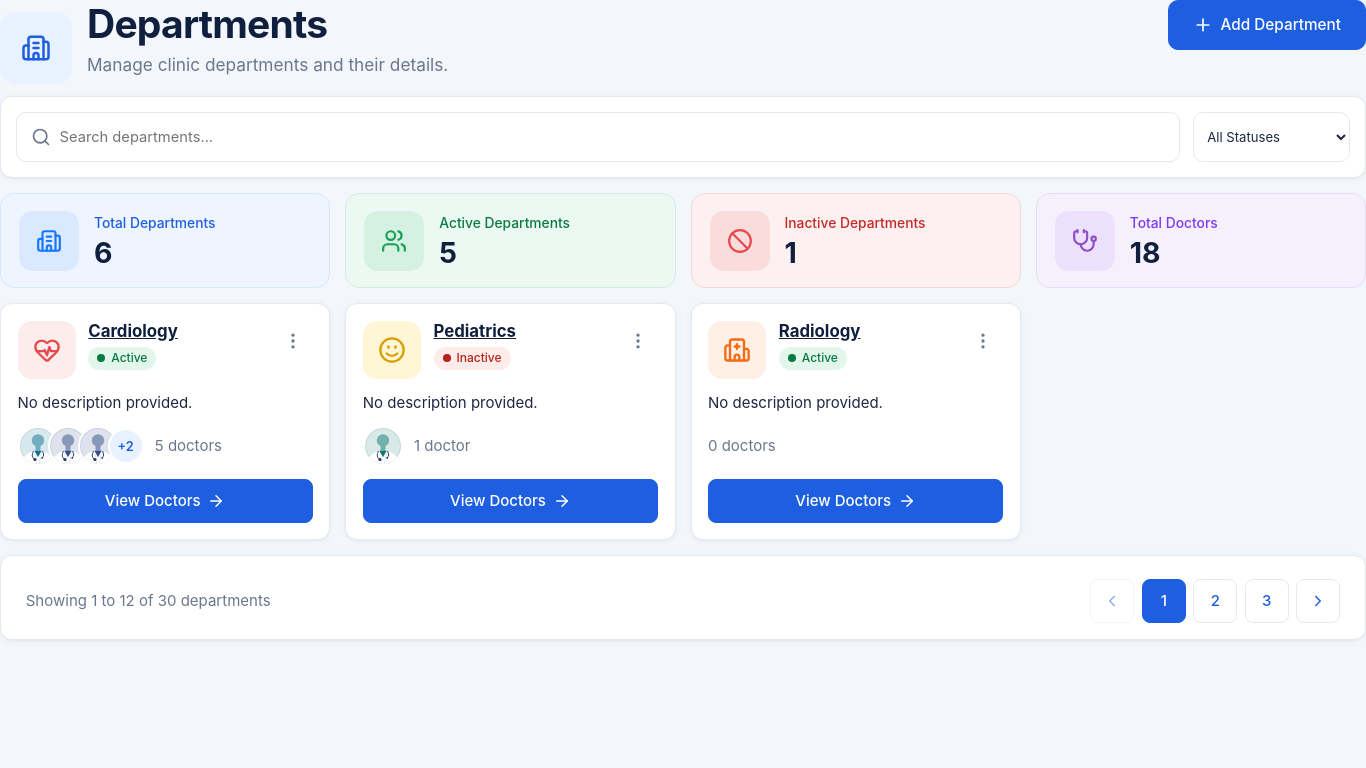
Add and edit › edits name, description and timezone; status is not in the form
The image size is (1366, 768).
Click the button named "Actions for Cardiology".
click(293, 341)  # box top-left (273, 321), bottom-right (313, 361)
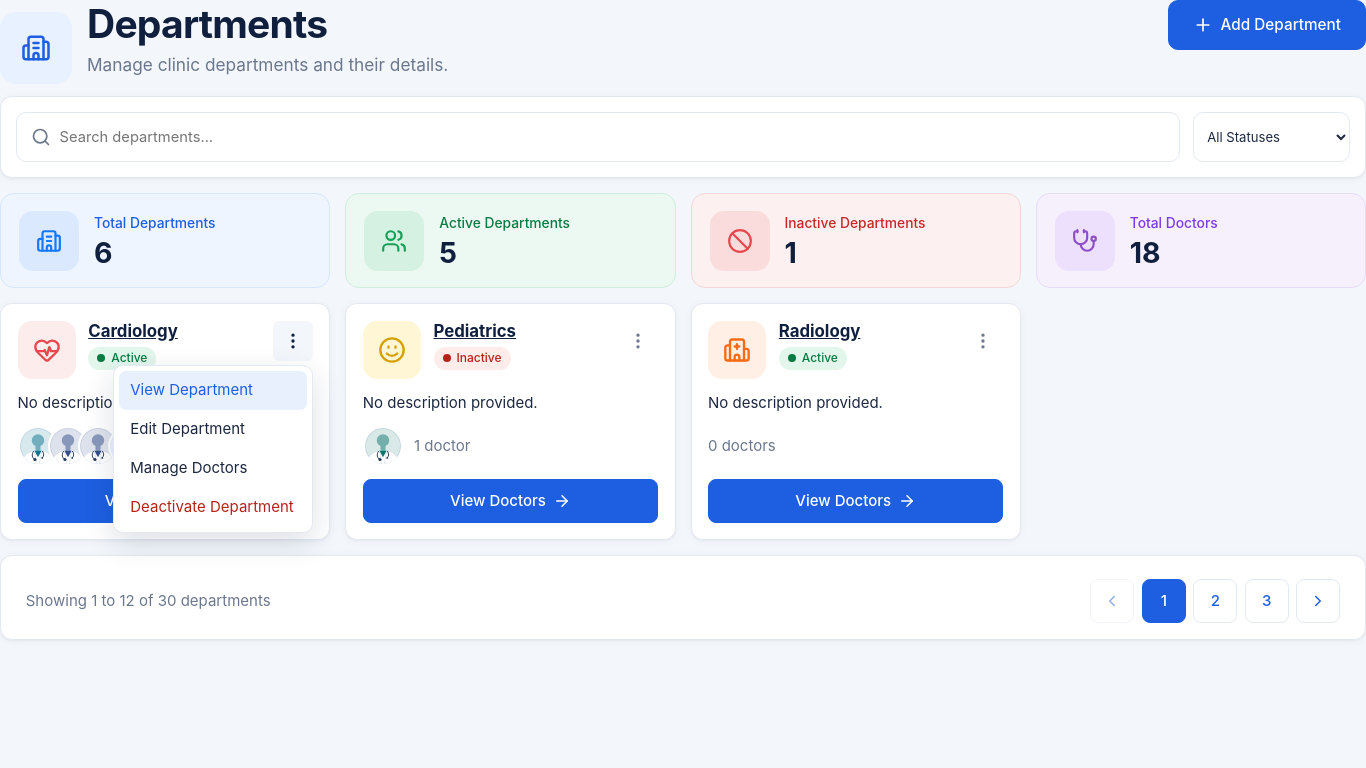
Click the menu item "Edit Department".
click(213, 430)  # box top-left (119, 410), bottom-right (306, 449)
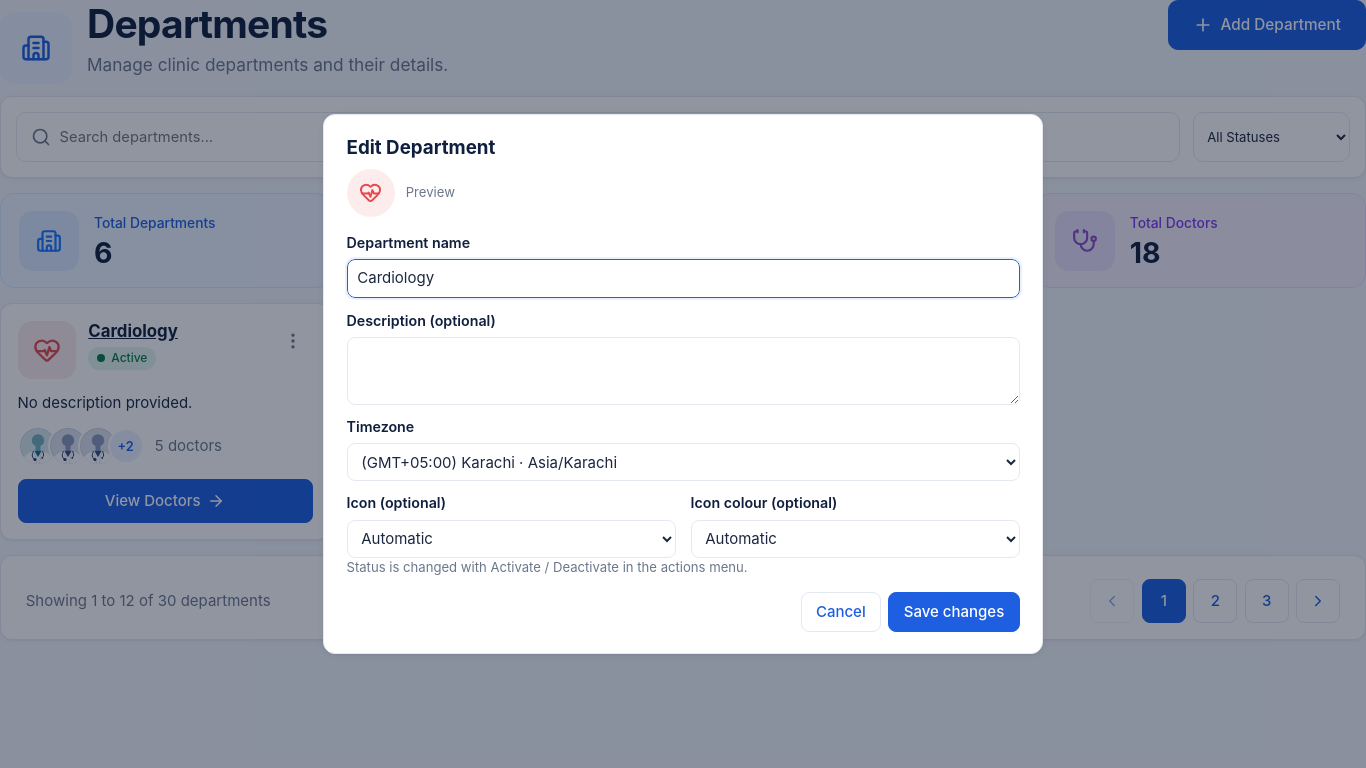
Replace the text in the field labelled "Department name" with "Cardiac Care" at (683, 279), box top-left (346, 259), bottom-right (1020, 298)
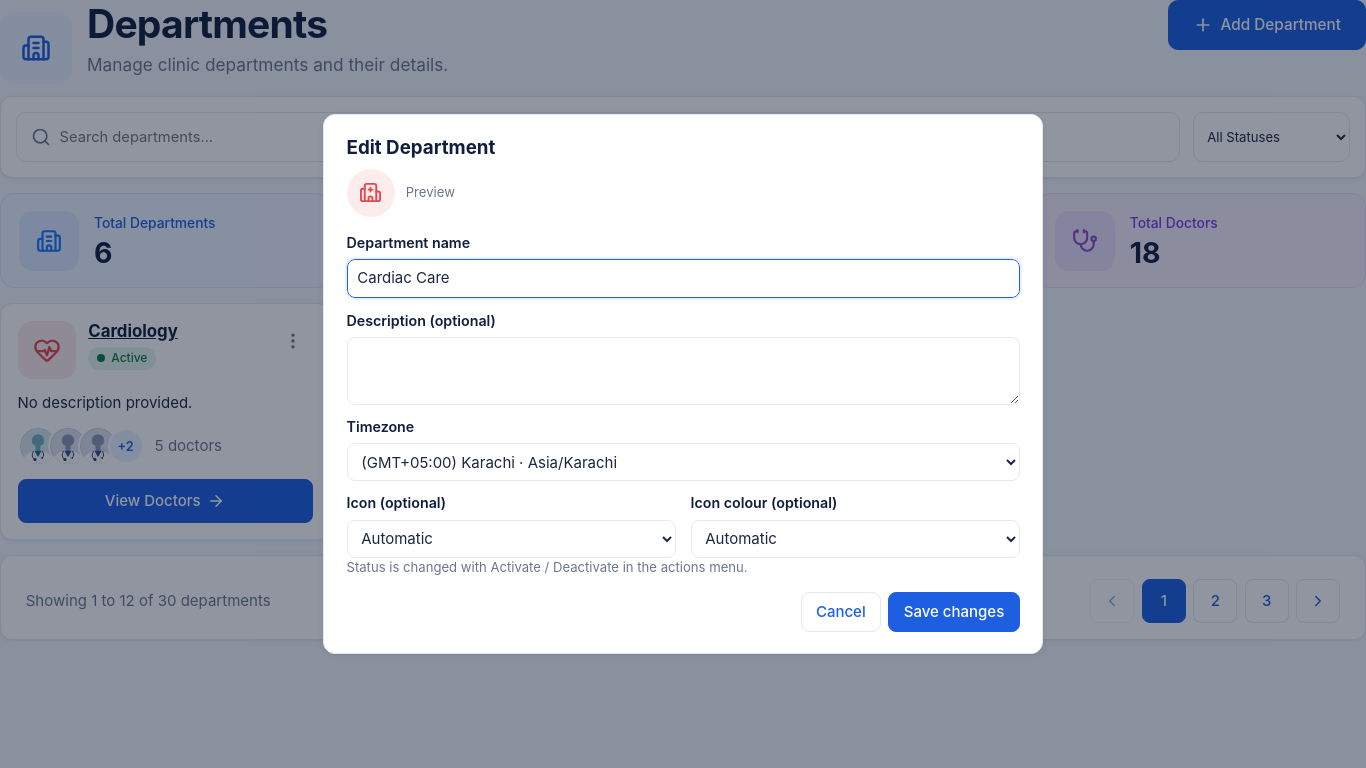
Type "Heart" into the text box labelled "Description (optional)".
click(683, 371); type("Heart")  # box top-left (346, 337), bottom-right (1020, 404)
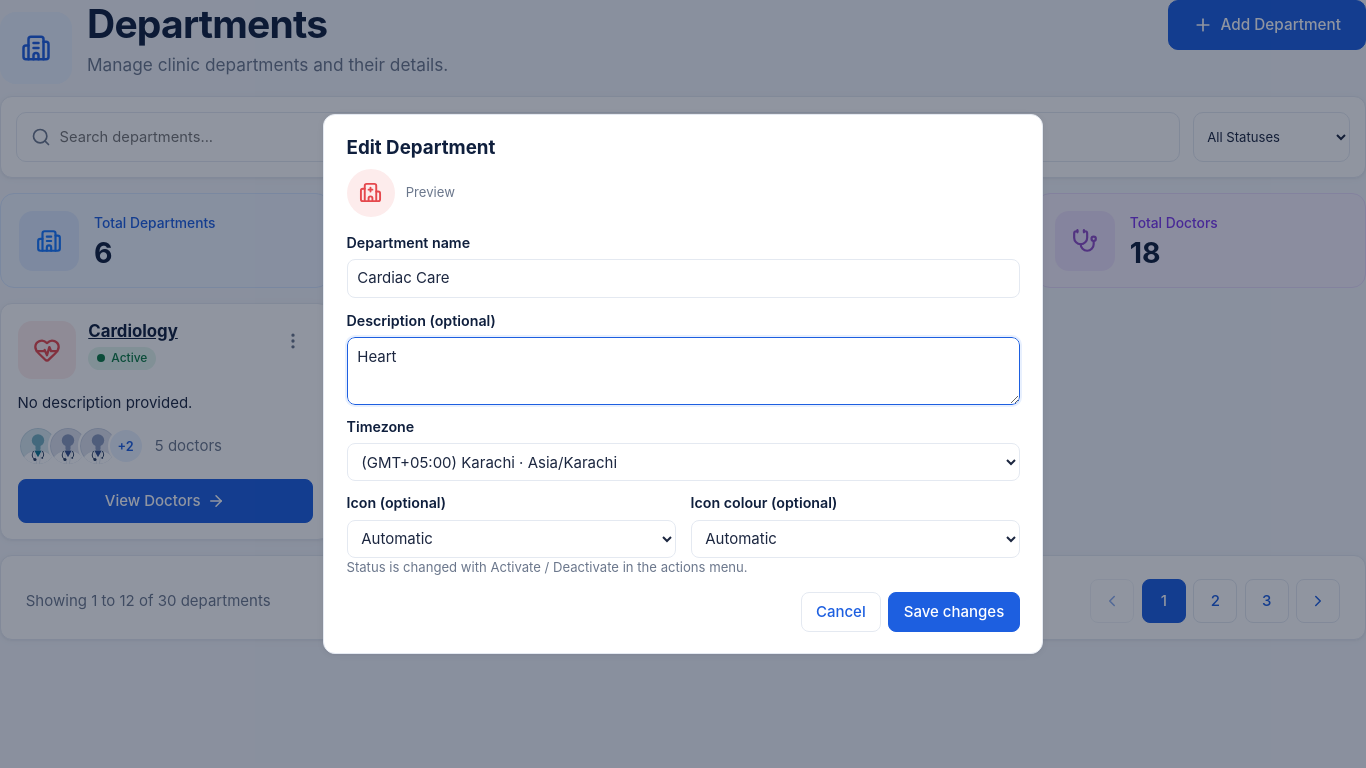
Select "(GMT+00:00) London · Europe/London" in the dropdown labelled "Timezone" at (683, 462), box top-left (346, 443), bottom-right (1020, 481)
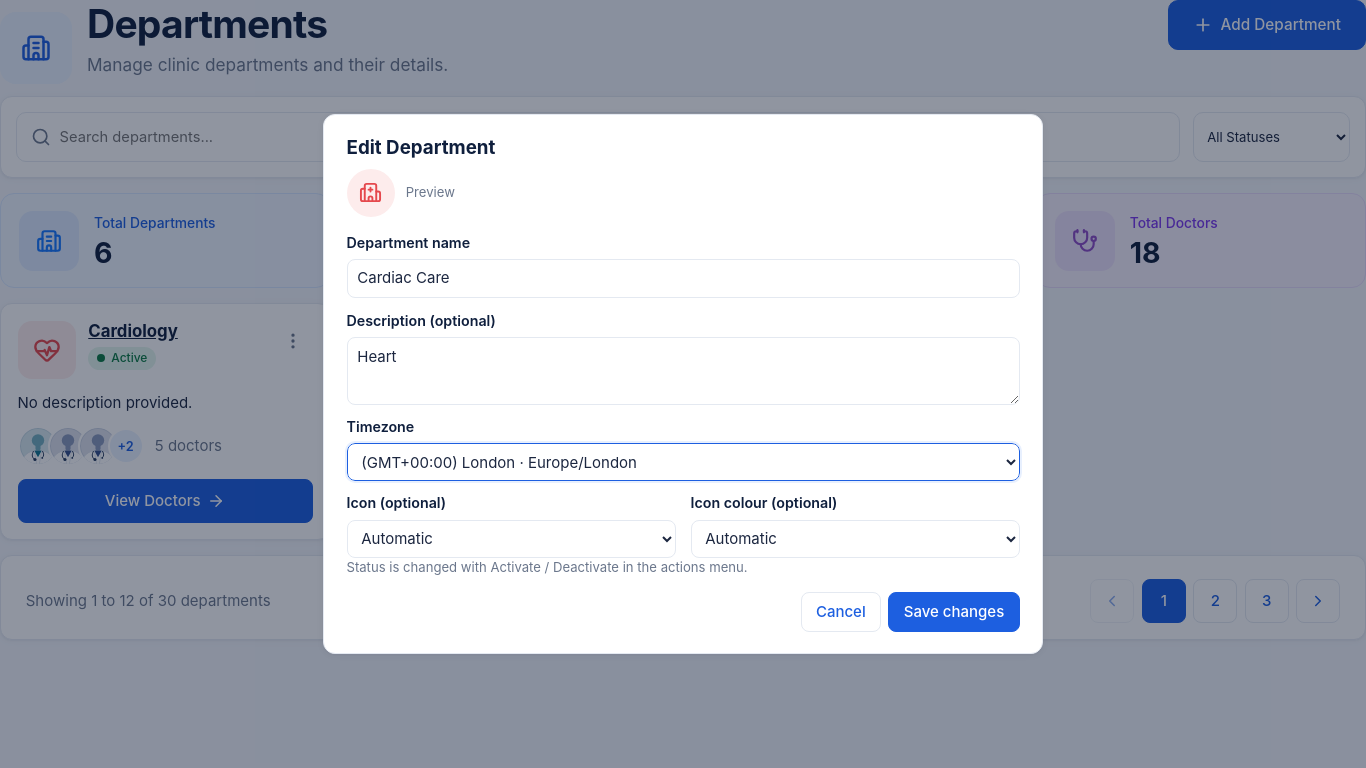
Click the button "Save changes".
click(954, 612)  # box top-left (888, 592), bottom-right (1020, 632)
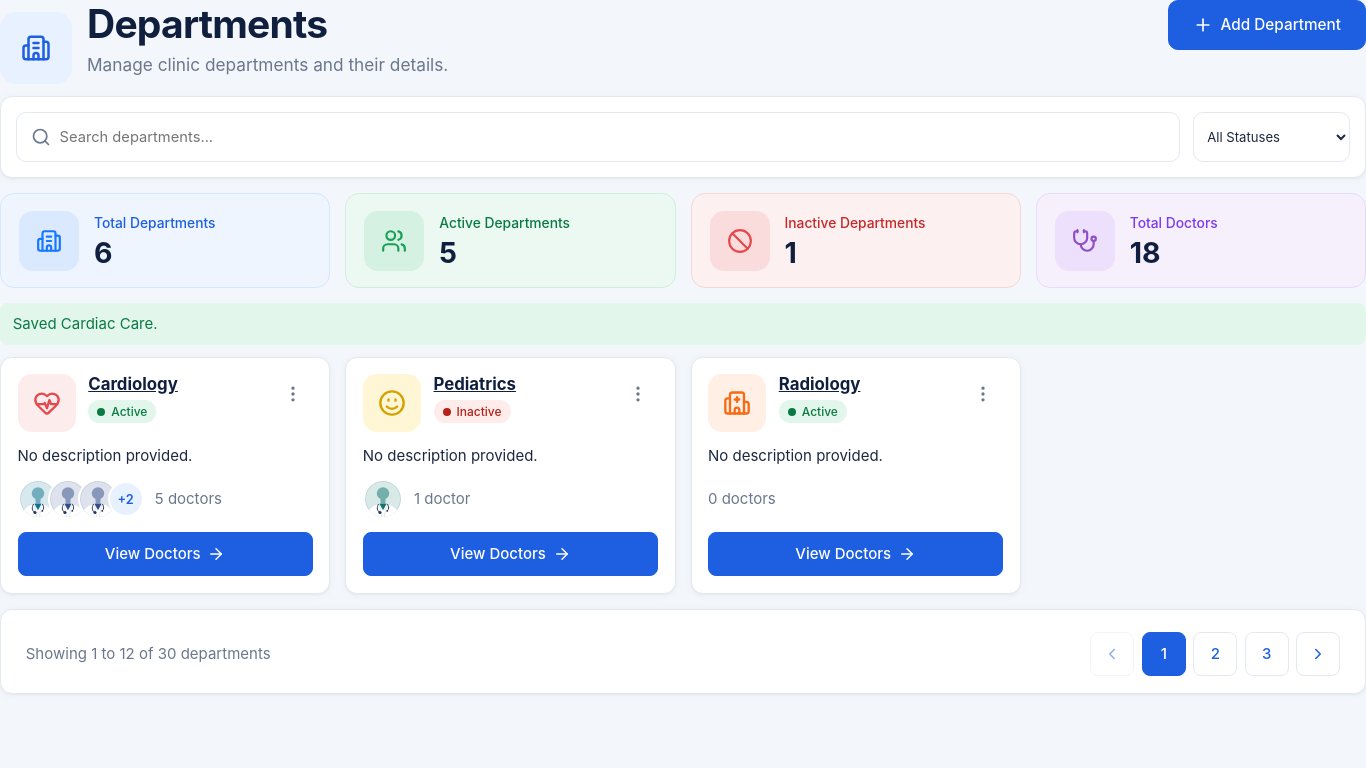
expect the text "Saved Cardiac Care." is shown: met, box top-left (0, 303), bottom-right (1365, 345)
